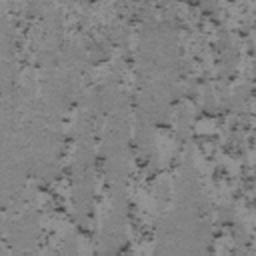Oxide scale of temperature system: (127, 0, 256, 256), (25, 155, 112, 249), (55, 16, 135, 93), (115, 199, 153, 256), (10, 10, 35, 96), (56, 135, 75, 176), (128, 94, 139, 108), (67, 101, 79, 111)
